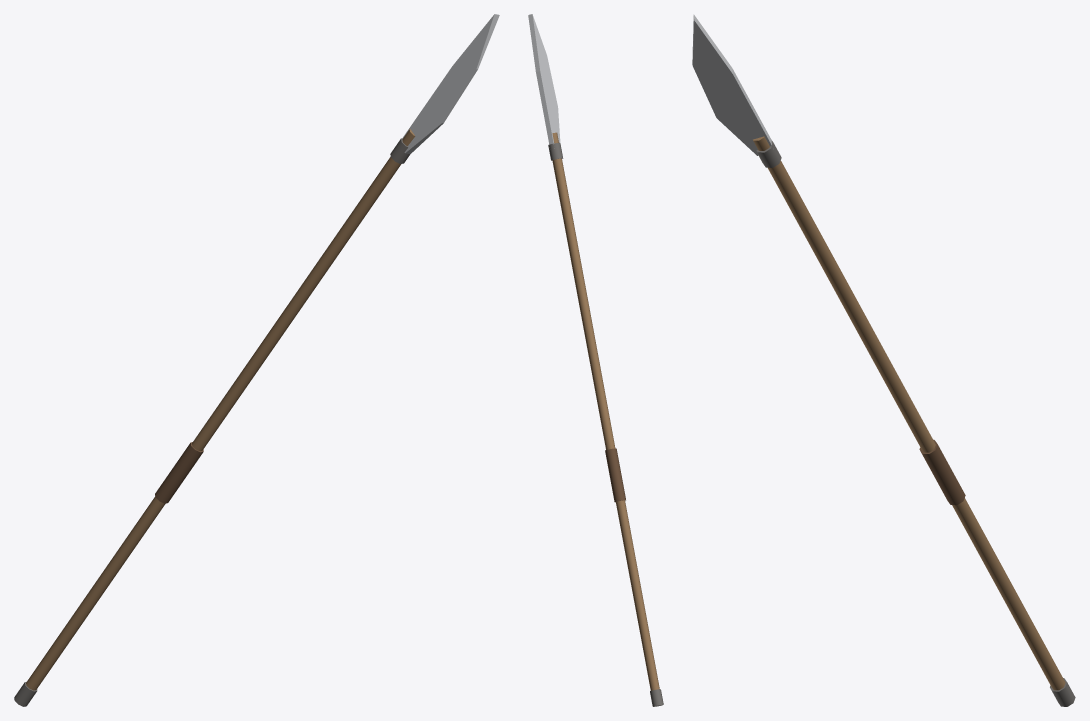
File: wpn_glaive.glb
3 views of the same model, side by side, from view 1: azimuth 30°, elevation 25°; view 2: azimuth 150°, elevation 25°; view 3: azimuth 270°, elevation 25° (orthographic). The views are drawn at different scales.
Visible parts, largest first — view 1: wpn_glaive; view 2: wpn_glaive; view 3: wpn_glaive.
Part boxes in pixels (x1=…): wpn_glaive: x1=14, y1=14, x2=499, y2=706; wpn_glaive: x1=528, y1=14, x2=663, y2=706; wpn_glaive: x1=692, y1=14, x2=1075, y2=706.
Bounding box in the file's own units: 0.549 × 1.15 × 0.4536.
